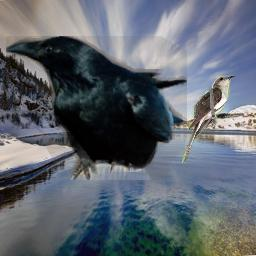Crow: (6, 36, 187, 180)
Cuckoo: (182, 75, 235, 164)
